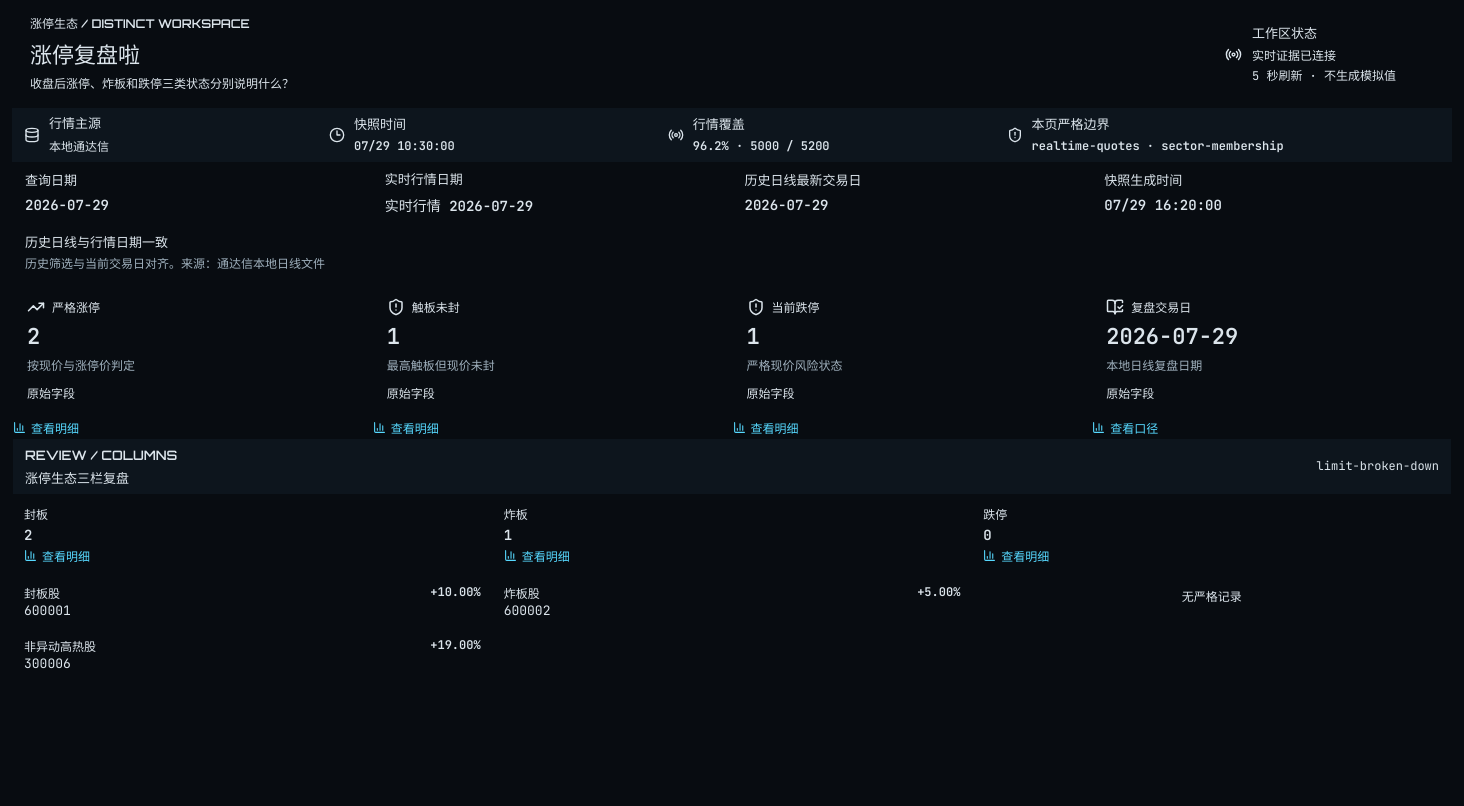
DistinctMarketWorkspace › makes review-column totals filterable and keeps each stock named
The width and height of the screenshot is (1464, 806).
Click the button with aria-label "筛选：封板 2".
click(66, 557)  # box x1=24 y1=505 x2=481 y2=565
(page scrolled)
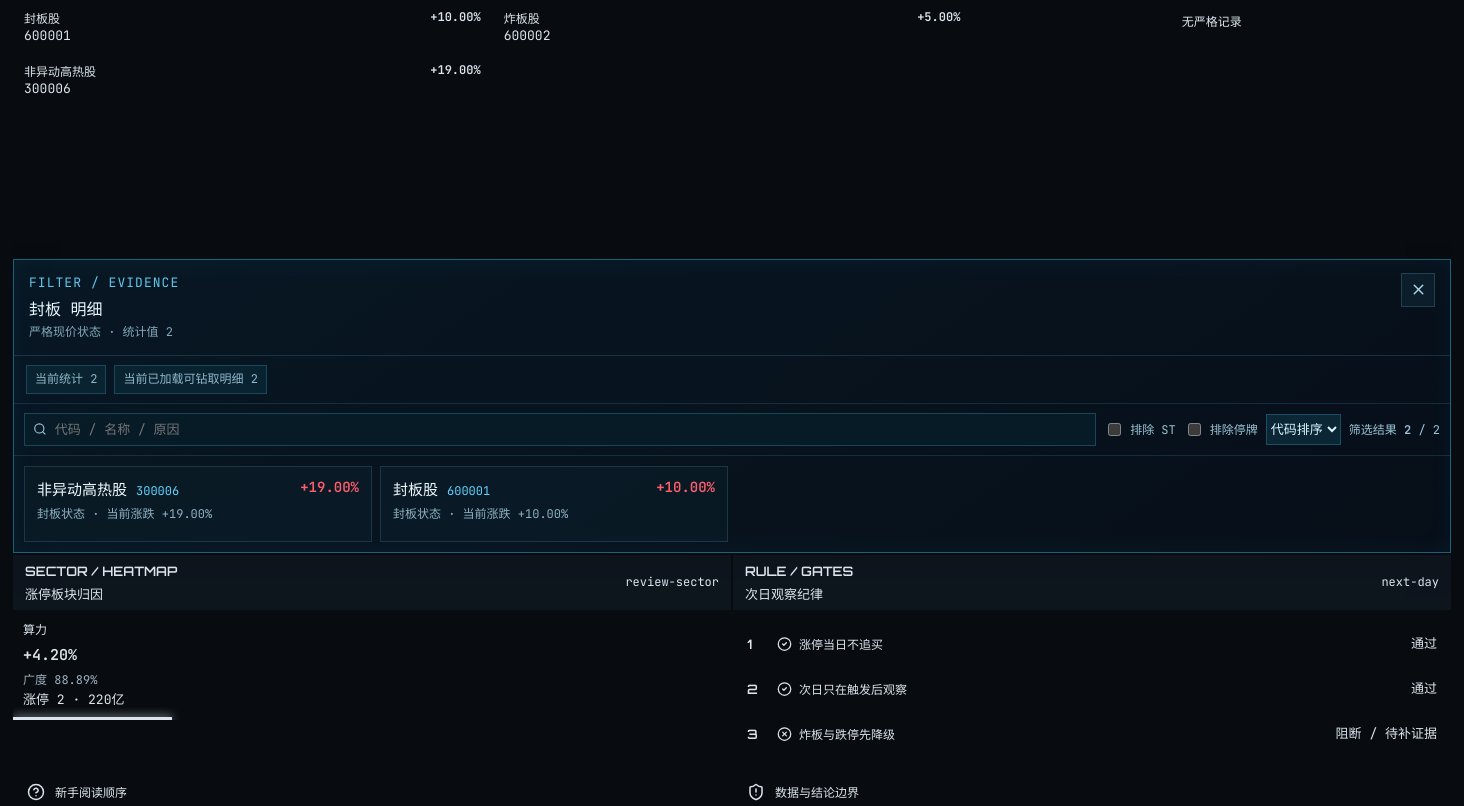
Check: the element "封板 明细" shows "封板股", box x1=393 y1=480 x2=438 y2=500
Check: the element "封板 明细" shows "非异动高热股", box x1=37 y1=480 x2=127 y2=500
